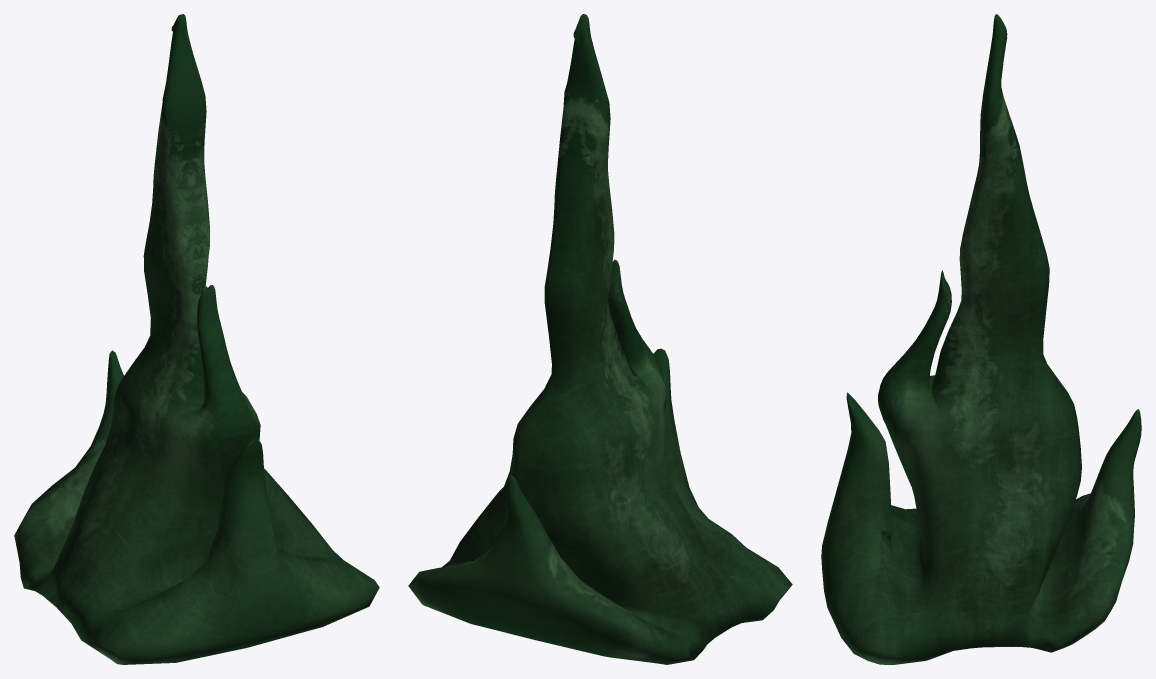
File: ARBOL 3.fbx
3 renders of one model, left to right at view 1: azimuth 30°, elevation 25°; view 2: azimuth 150°, elevation 25°; view 3: azimuth 270°, elevation 25°, orthographic. The views are drawn at different scales.
Parts seen in each view (by area): view 1: Plane.002; view 2: Plane.002; view 3: Plane.002.
Part boxes in pixels (x1=…): Plane.002: x1=14, y1=14, x2=379, y2=664; Plane.002: x1=408, y1=14, x2=792, y2=664; Plane.002: x1=821, y1=14, x2=1141, y2=664.
Bounding box in the file's own units: 38.76 × 79.76 × 38.57.
1 material, 1 textured.
